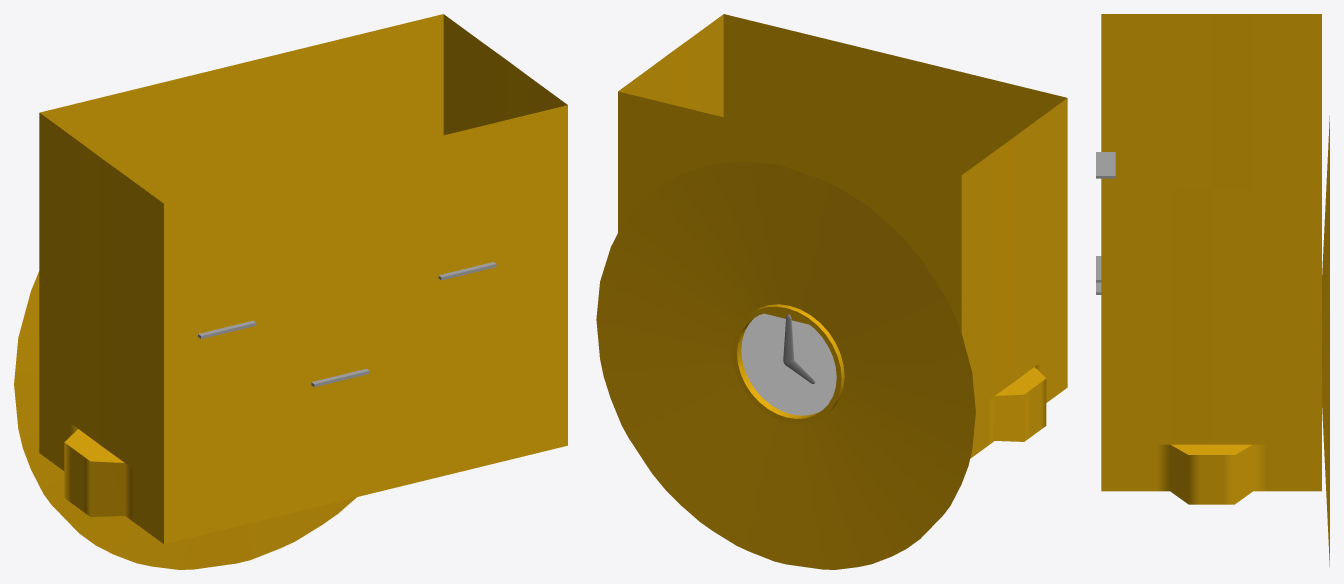
File: arenaNEW.fbx
3 renders of one model, left to right at view 1: azimuth 30°, elevation 25°; view 2: azimuth 150°, elevation 25°; view 3: azimuth 270°, elevation 25°, orthographic. The views are drawn at different scales.
Parts seen in each view (by area): view 1: arenaNew; view 2: arenaNew, clockborder; view 3: arenaNew, plank3.
Part boxes in pixels (x1,y1,x2,y2): arenaNew: [14, 14, 567, 569]; arenaNew: [596, 14, 1067, 569]; clockborder: [732, 304, 844, 423]; arenaNew: [1101, 14, 1329, 566]; plank3: [1096, 152, 1115, 178].
Size of the model in its own units: 67.21 by 71.42 by 33.89.
